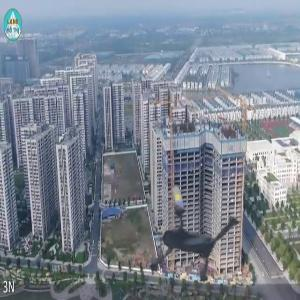drone: (122, 160, 262, 300)
